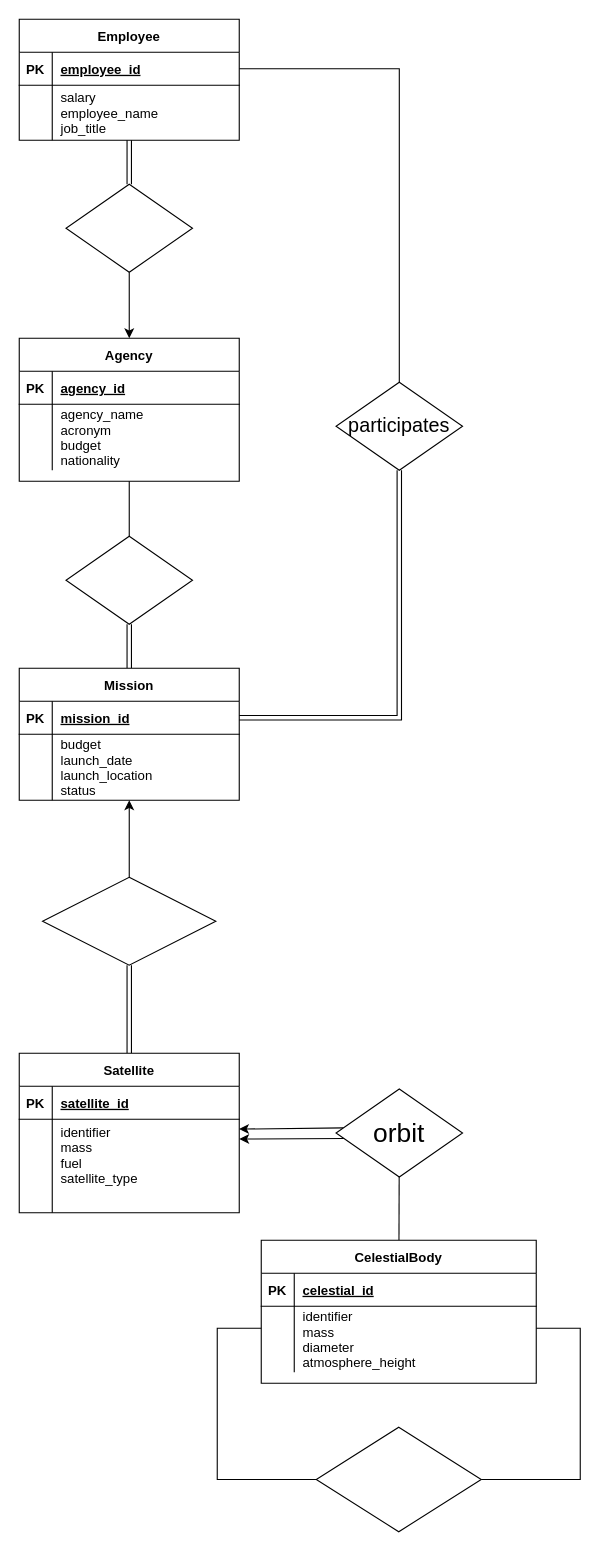
This 601x1551 diagram has some shape labels left out. The centre of each missing label's shape, as x and y in pixels:
celestial_orbit: pixel 398 1479
employs: pixel 129 227
launches: pixel 129 579
satellite_mission: pixel 128 920
